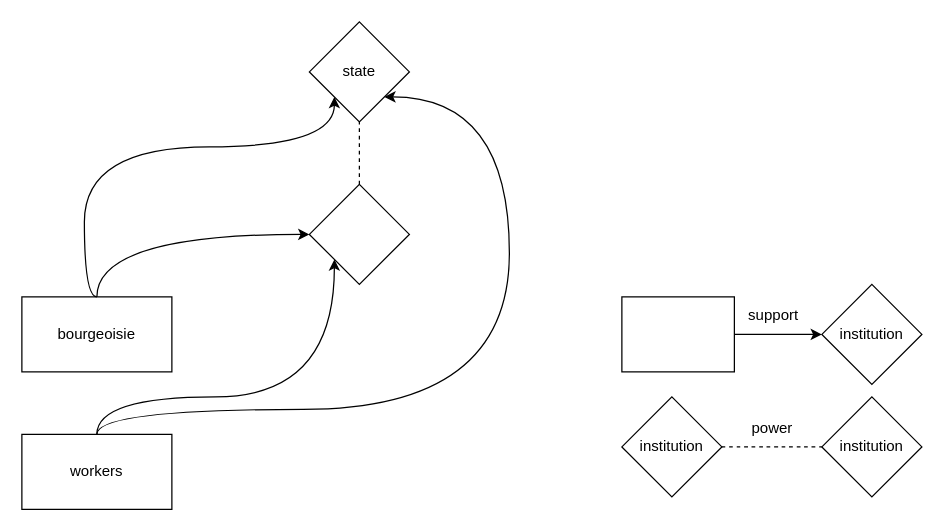
The diagram is 944 pixels wide and 531 high, and some of its shapes have lost their labels. The shapes that lost their labels are listed below. From the top down, each one's centre as x and y in pixels, then its label:
(358,233): government
(677,334): class
